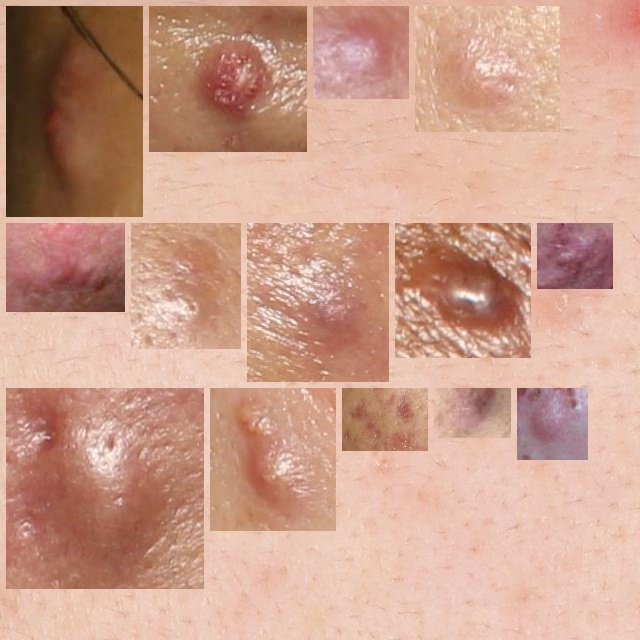nodule: (14, 396, 196, 581), (14, 14, 135, 209), (157, 14, 299, 144), (255, 231, 381, 374), (403, 231, 523, 350), (423, 14, 552, 124), (218, 396, 328, 523), (139, 231, 233, 341), (14, 231, 117, 304), (321, 14, 401, 91), (350, 396, 420, 443), (525, 396, 580, 452), (545, 231, 605, 281), (442, 388, 503, 430)
